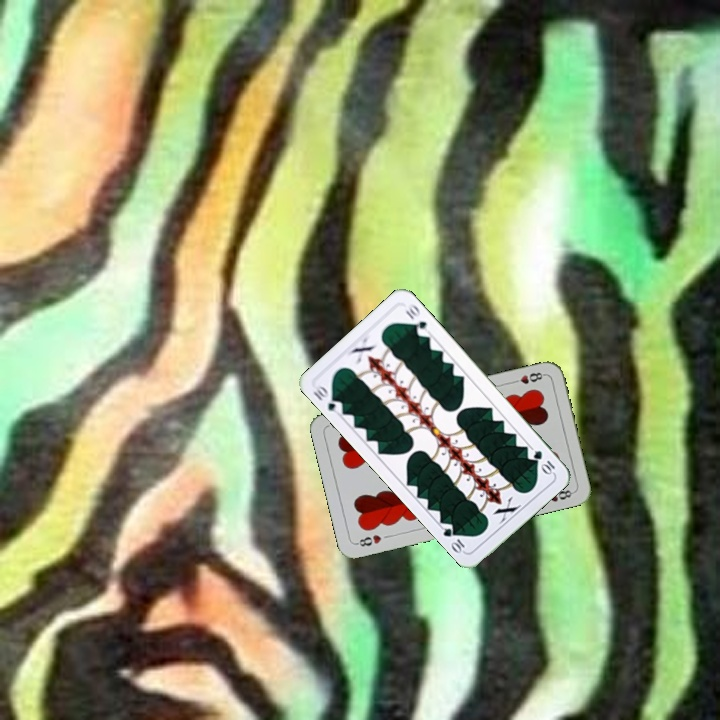G10: (309, 380, 346, 414), (529, 446, 558, 477)
H8: (508, 368, 548, 387), (352, 530, 384, 549)
